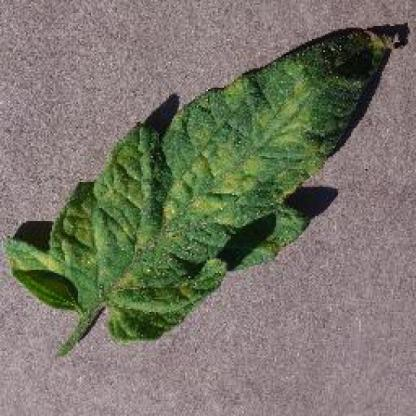Tomato_Leaf_Mold: (7, 26, 400, 335)
